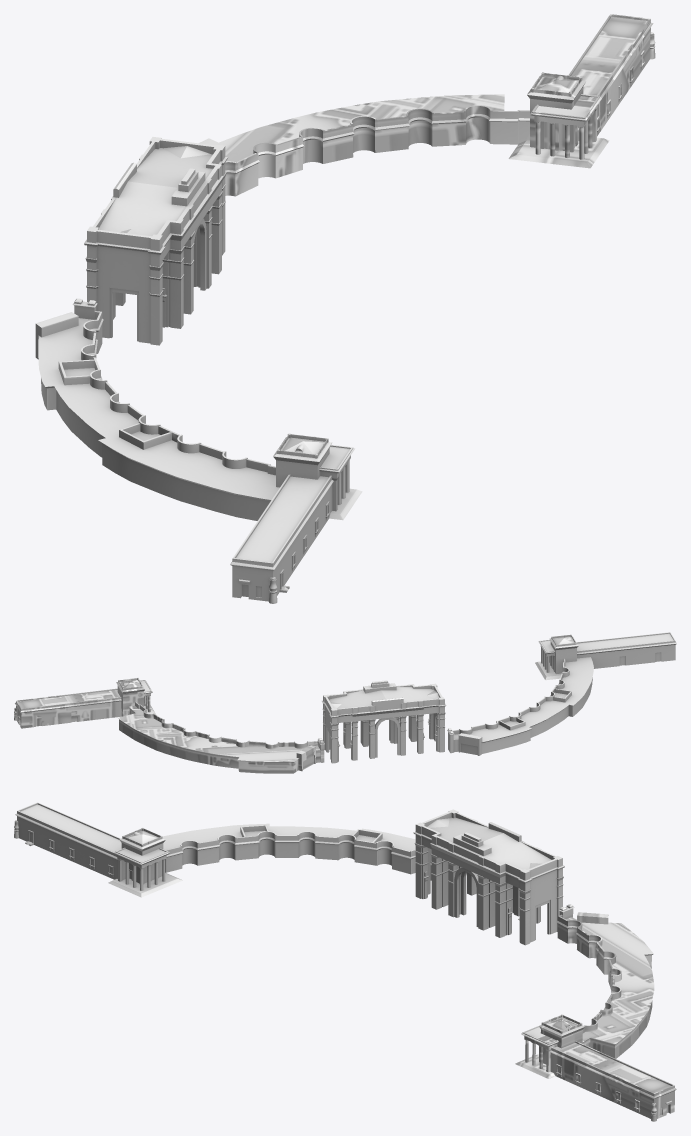
File: vdnh_arch.glb
3 views of the same model, one above another, from view 1: azimuth 30°, elevation 25°; view 2: azimuth 150°, elevation 25°; view 3: azimuth 270°, elevation 25° (orthographic). The views are drawn at different scales.
Visible parts, largest first — view 1: vvcarc; view 2: vvcarc; view 3: vvcarc.
Boxes of the visible parts, left/top/right/bottom form: vvcarc: left=35, top=14, right=655, bottom=603; vvcarc: left=14, top=632, right=676, bottom=773; vvcarc: left=14, top=802, right=676, bottom=1121.
Size of the model in its own units: 239 by 32.56 by 229.
2 materials, 2 textured.
